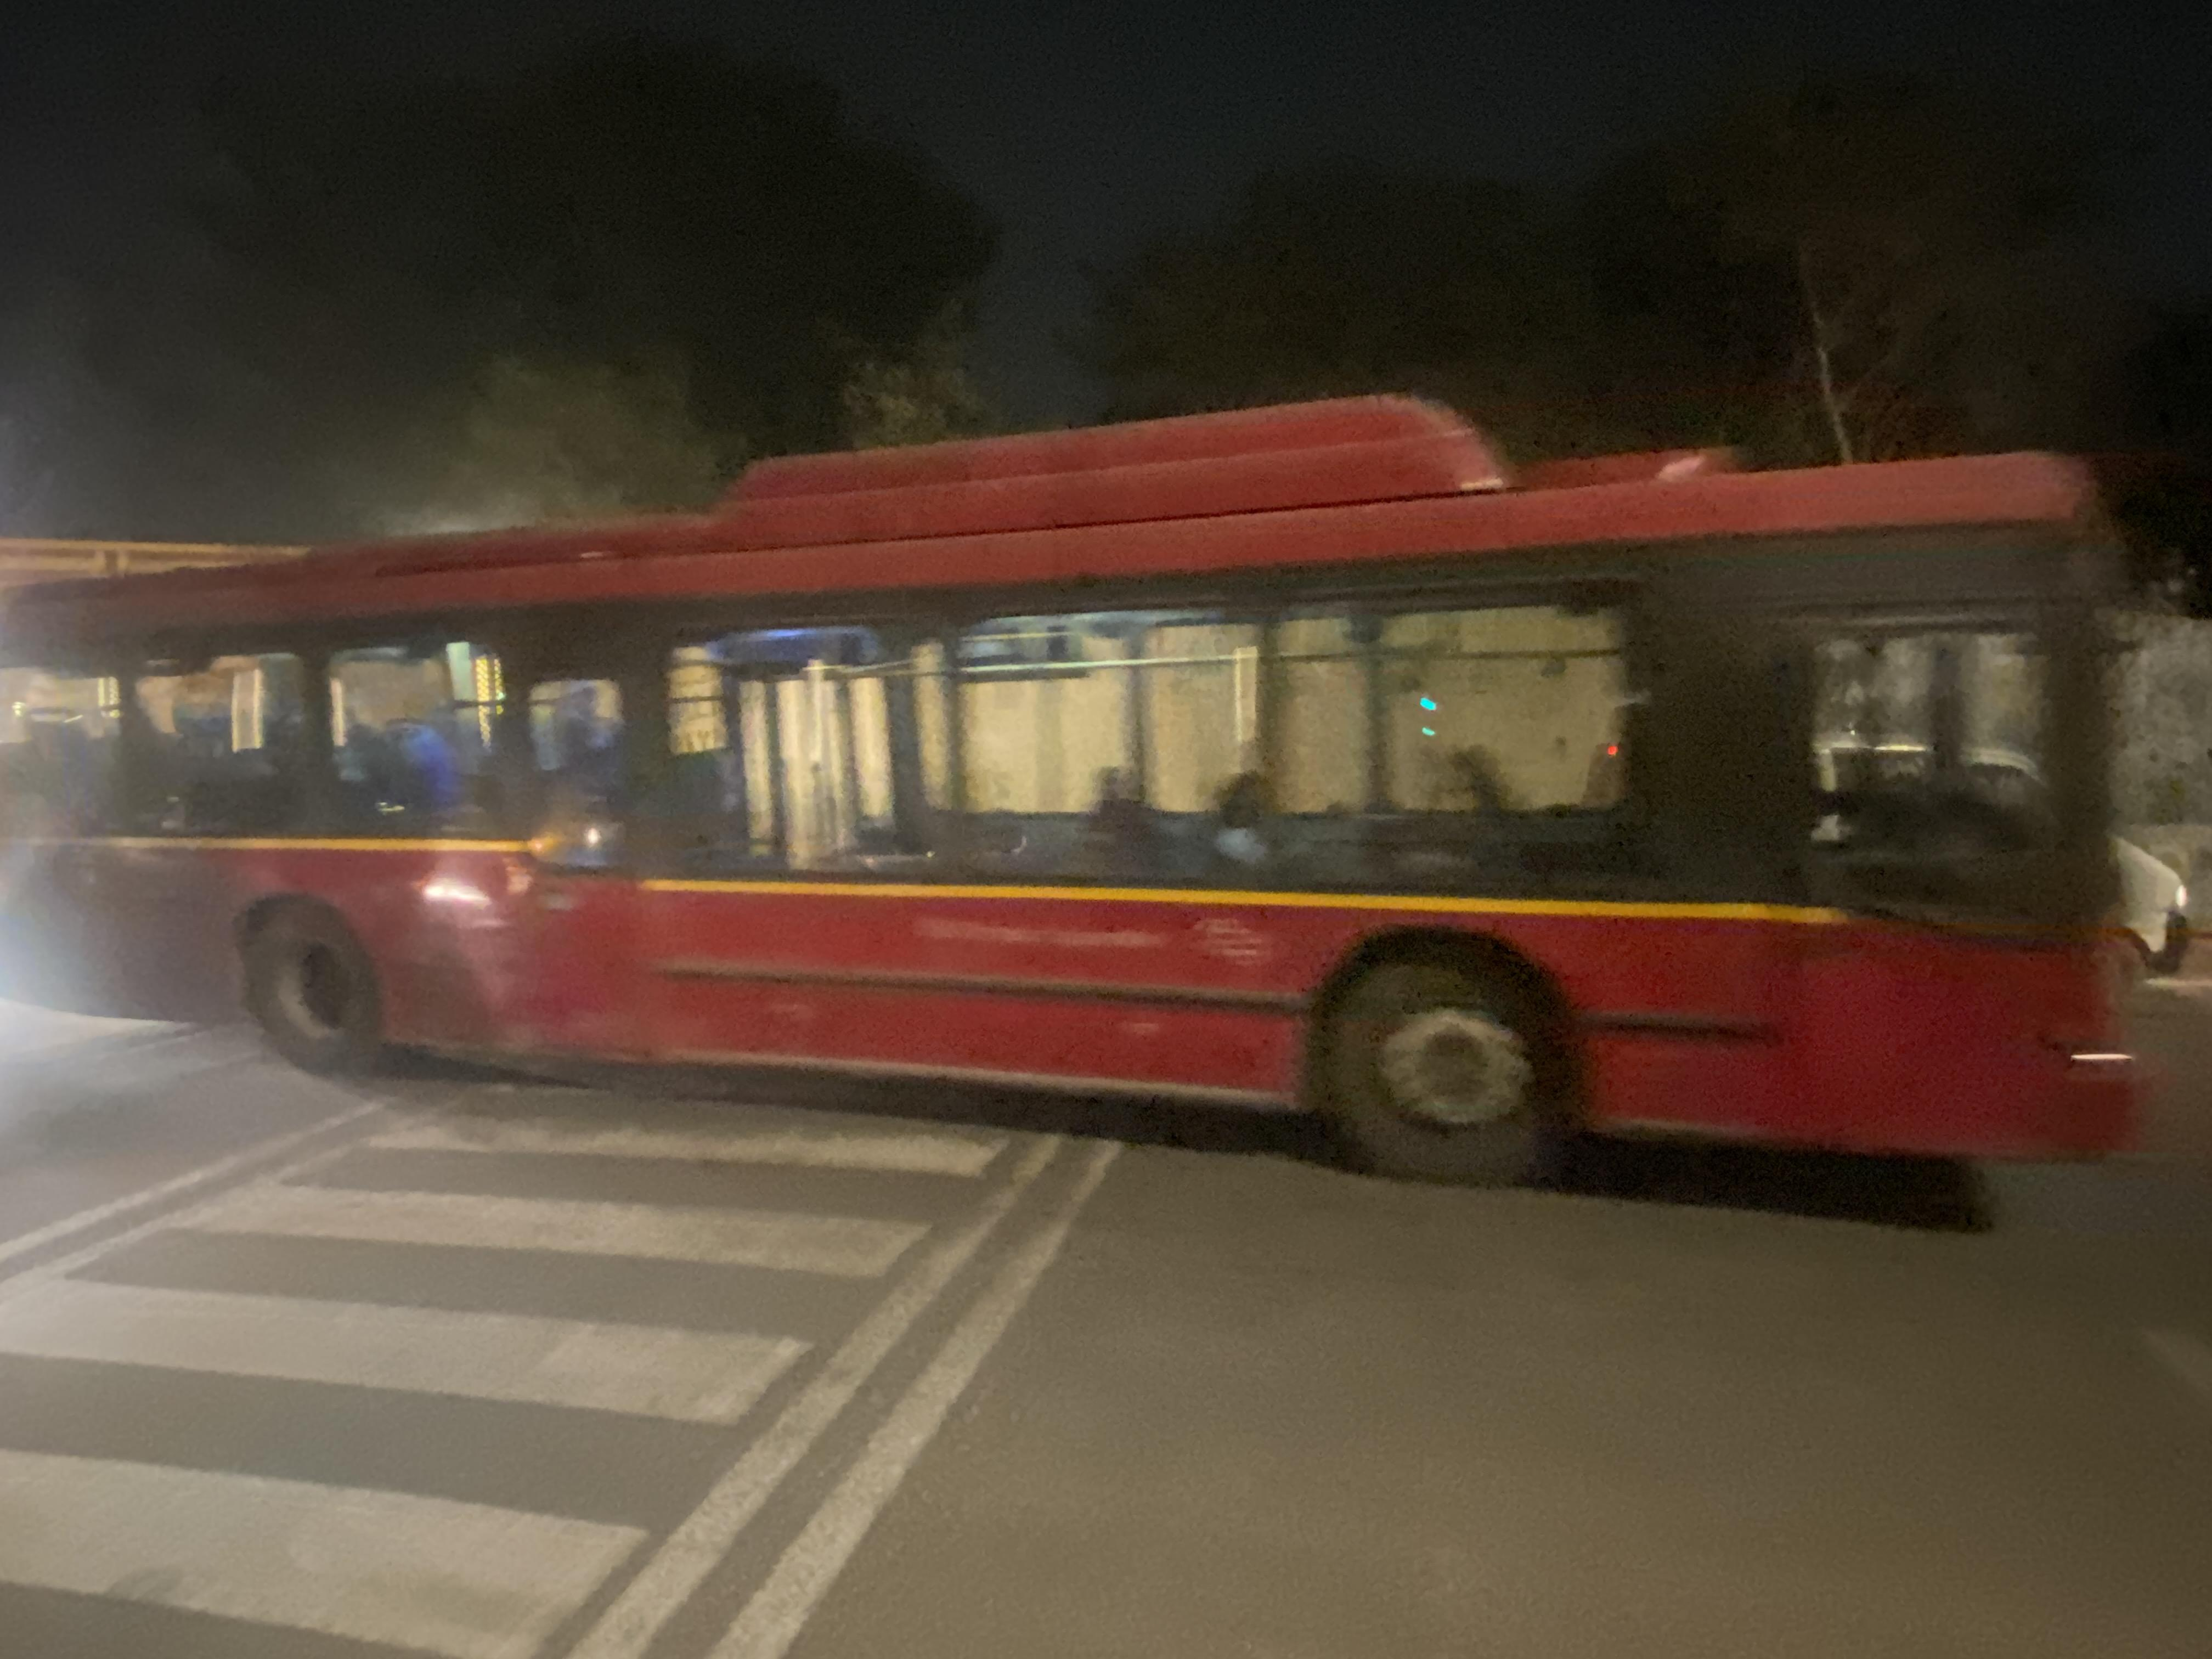Bus: (0, 390, 2189, 1162)
